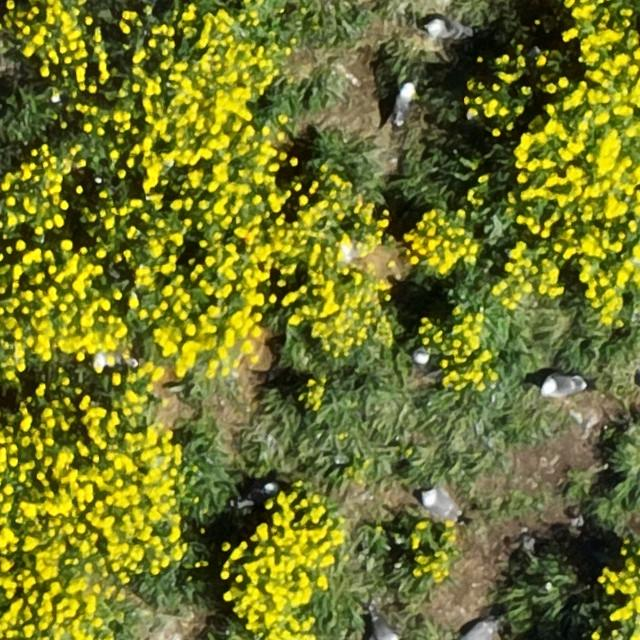umineko: (423, 492, 457, 520), (541, 376, 581, 396), (395, 82, 414, 122), (241, 482, 276, 502), (426, 19, 460, 39), (371, 616, 398, 640)
